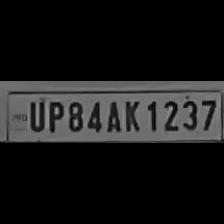1: (142, 98, 160, 132)
2: (159, 96, 179, 132)
3: (178, 96, 198, 130)
4: (84, 97, 103, 133)
7: (198, 96, 218, 130)
8: (65, 97, 83, 132)
A: (103, 97, 123, 132)
K: (121, 97, 141, 132)
P: (46, 97, 64, 132)
U: (24, 97, 44, 132)
